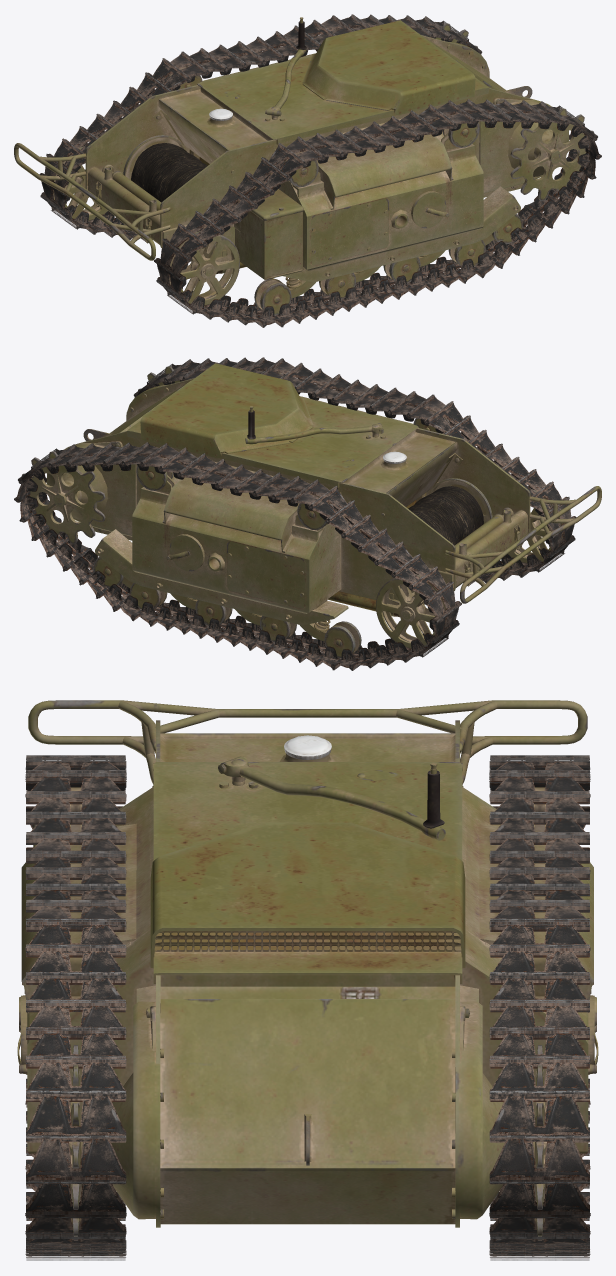
File: goliath-303.glb
The picture shows the model from 3 angles, top to bottom: view 1: azimuth 30°, elevation 25°; view 2: azimuth 150°, elevation 25°; view 3: azimuth 270°, elevation 25°; orthographic projection. The views are drawn at different scales.
Parts seen in each view (by area): view 1: Body_Goliath_0, track_r_Tracks_0, track_l_Tracks_0, wheel_r_drive_Goliath_0, Coil_Goliath_0, wheel_r_guide_Goliath_0, wheel_r_05_Goliath_0, Starter_Goliath_0, wheel_l_guide_Goliath_0, wheel_r_03_Goliath_0, wheel_r_top_01_Goliath_0, wheel_r_04_Goliath_0 (+3 smaller); view 2: Body_Goliath_0, track_l_Tracks_0, track_r_Tracks_0, wheel_l_drive_Goliath_0, Coil_Goliath_0, wheel_l_guide_Goliath_0, Starter_Goliath_0, wheel_l_05_Goliath_0, wheel_r_guide_Goliath_0, wheel_l_03_Goliath_0, wheel_l_top_01_Goliath_0, wheel_l_04_Goliath_0 (+3 smaller); view 3: Body_Goliath_0, track_l_Tracks_0, track_r_Tracks_0, Starter_Goliath_0, wheel_r_drive_Goliath_0, wheel_l_drive_Goliath_0.
Part boxes in pixels (x1=…): Body_Goliath_0: x1=14, y1=20, x2=569, y2=282; track_r_Tracks_0: x1=154, y1=99, x2=601, y2=327; track_l_Tracks_0: x1=39, y1=14, x2=482, y2=241; wheel_r_drive_Goliath_0: x1=510, y1=108, x2=593, y2=200; Coil_Goliath_0: x1=123, y1=135, x2=207, y2=202; wheel_r_guide_Goliath_0: x1=169, y1=231, x2=239, y2=305; wheel_r_05_Goliath_0: x1=254, y1=278, x2=291, y2=315; Starter_Goliath_0: x1=265, y1=17, x2=306, y2=119; wheel_l_guide_Goliath_0: x1=53, y1=146, x2=107, y2=220; wheel_r_03_Goliath_0: x1=383, y1=257, x2=420, y2=282; wheel_r_top_01_Goliath_0: x1=442, y1=114, x2=479, y2=147; wheel_r_04_Goliath_0: x1=319, y1=273, x2=355, y2=299; Body_Goliath_0: x1=46, y1=363, x2=601, y2=625; track_l_Tracks_0: x1=14, y1=442, x2=461, y2=670; track_r_Tracks_0: x1=133, y1=357, x2=576, y2=584; wheel_l_drive_Goliath_0: x1=22, y1=451, x2=105, y2=543; Coil_Goliath_0: x1=408, y1=478, x2=492, y2=545; wheel_l_guide_Goliath_0: x1=376, y1=574, x2=446, y2=648; Starter_Goliath_0: x1=245, y1=406, x2=383, y2=444; wheel_l_05_Goliath_0: x1=324, y1=621, x2=361, y2=658; wheel_r_guide_Goliath_0: x1=508, y1=489, x2=562, y2=563; wheel_l_03_Goliath_0: x1=195, y1=600, x2=232, y2=625; wheel_l_top_01_Goliath_0: x1=136, y1=457, x2=173, y2=490; wheel_l_04_Goliath_0: x1=260, y1=616, x2=296, y2=642; Body_Goliath_0: x1=17, y1=700, x2=598, y2=1227; track_l_Tracks_0: x1=489, y1=755, x2=590, y2=1260; track_r_Tracks_0: x1=25, y1=755, x2=126, y2=1260; Starter_Goliath_0: x1=218, y1=756, x2=445, y2=840; wheel_r_drive_Goliath_0: x1=69, y1=1045, x2=80, y2=1240; wheel_l_drive_Goliath_0: x1=535, y1=1045, x2=546, y2=1240.
Bounding box in the file's own units: 1.65 × 0.7161 × 0.9135.
2 materials, 2 textured.
